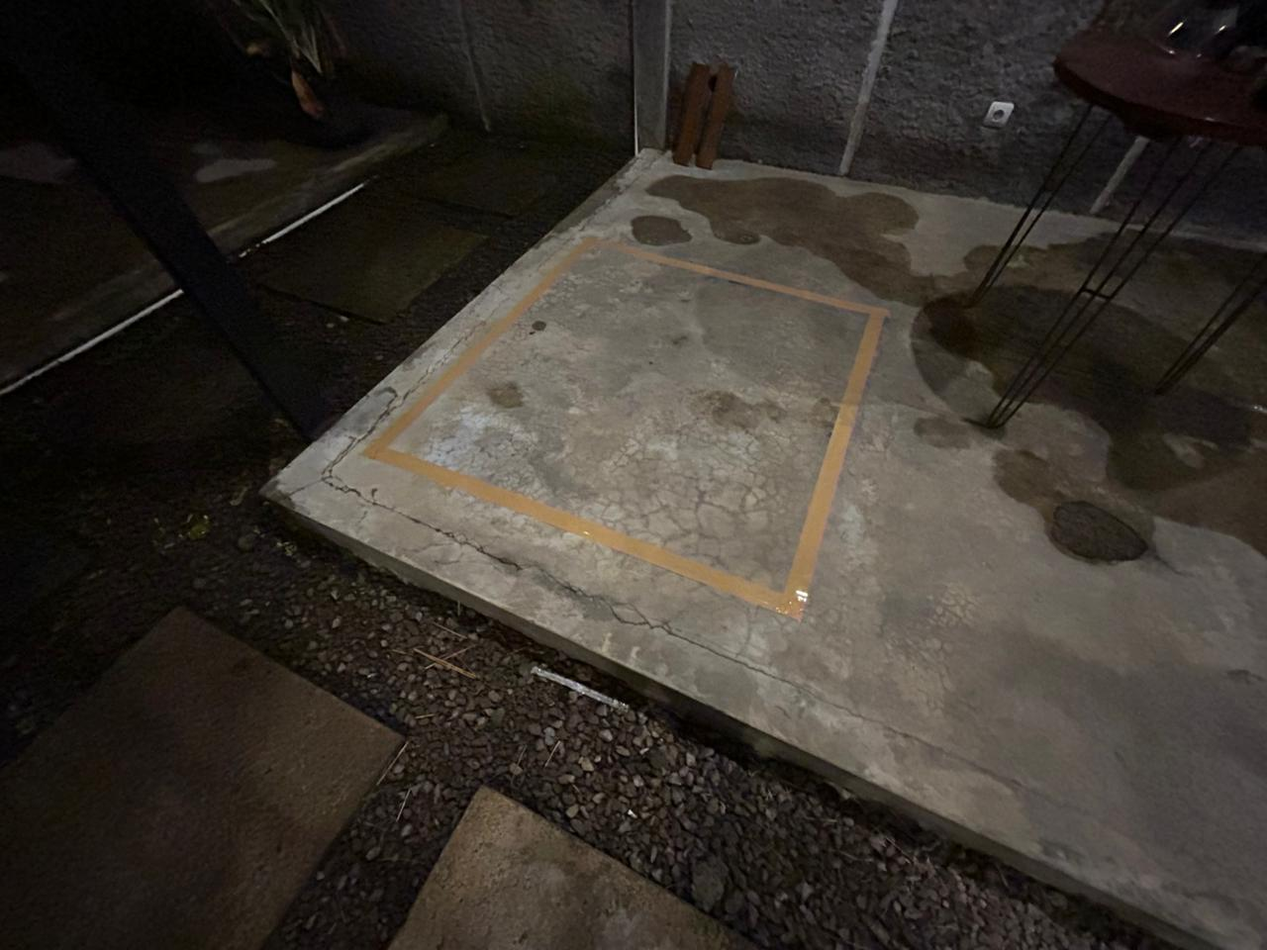floor marking: (363, 238, 887, 619)
